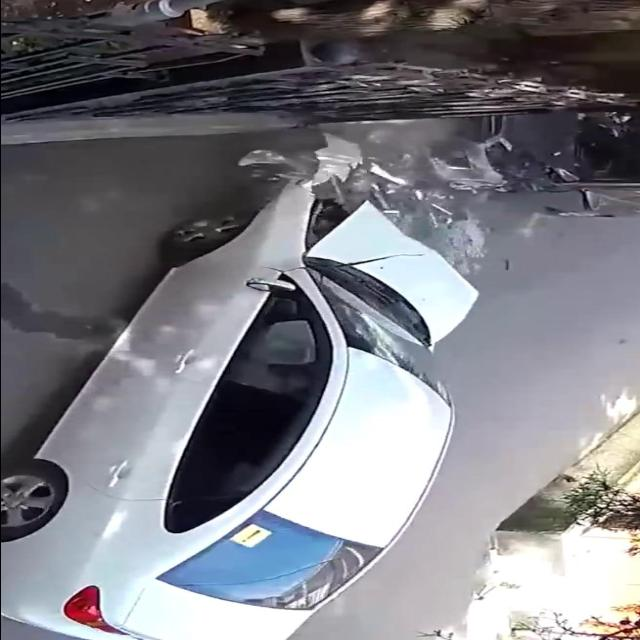accident: (1, 131, 480, 640), (413, 93, 640, 219)
